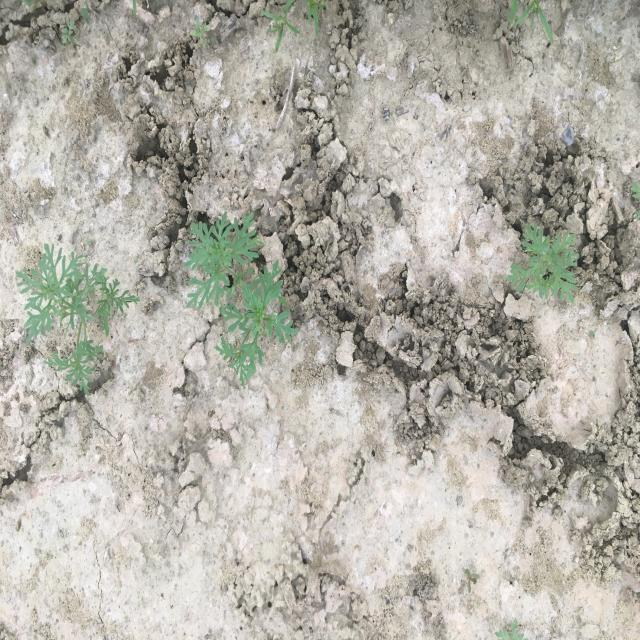Ragweed: (183, 209, 300, 389), (15, 242, 142, 398), (505, 221, 581, 305)
